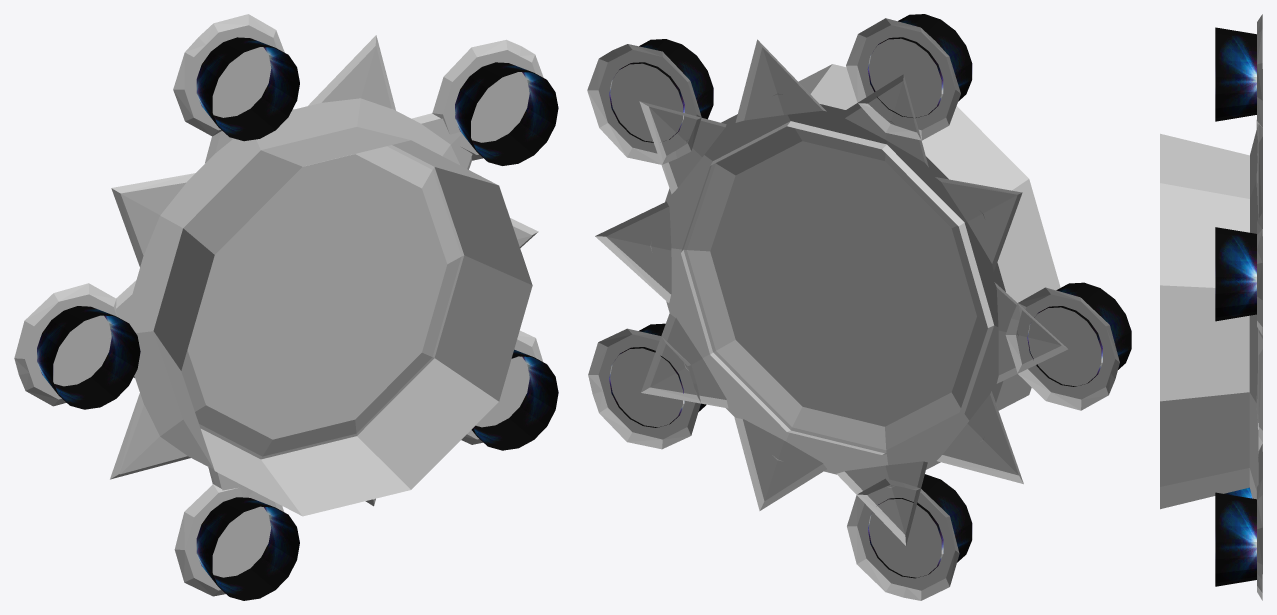
File: aiji_fuben_230_light_01.obj
3 renders of one model, left to right at view 1: azimuth 30°, elevation 25°; view 2: azimuth 150°, elevation 25°; view 3: azimuth 270°, elevation 25°, orthographic. The views are drawn at different scales.
Parts seen in each view (by area): view 1: aiji_fuben_230_light_01, Cylinder02, aiji_fuben_230_light_02, Cylinder07, Cylinder06, Cylinder03, Cylinder05, Cylinder04; view 2: aiji_fuben_230_light_01, Cylinder02, Cylinder07, Cylinder06, Cylinder05, Cylinder03; view 3: Cylinder02, aiji_fuben_230_light_01, Cylinder04, Cylinder05, Cylinder06, aiji_fuben_230_light_02, Cylinder03.
Boxes of the visible parts, box(x1,y1,x2,y2) form: aiji_fuben_230_light_01: box(14, 14, 543, 596); Cylinder02: box(153, 127, 532, 516); aiji_fuben_230_light_02: box(108, 46, 532, 499); Cylinder07: box(37, 306, 140, 409); Cylinder06: box(196, 37, 299, 141); Cylinder03: box(196, 497, 299, 600); Cylinder05: box(455, 62, 558, 165); Cylinder04: box(471, 349, 558, 450); aiji_fuben_230_light_01: box(587, 18, 1119, 600); Cylinder02: box(681, 64, 1060, 454); Cylinder07: box(1027, 282, 1131, 386); Cylinder06: box(867, 14, 972, 117); Cylinder05: box(609, 39, 713, 142); Cylinder03: box(868, 474, 972, 578); Cylinder02: box(1160, 133, 1249, 509); aiji_fuben_230_light_01: box(1249, 14, 1262, 600); Cylinder04: box(1215, 492, 1256, 586); Cylinder05: box(1215, 227, 1256, 321); Cylinder06: box(1215, 27, 1256, 121); aiji_fuben_230_light_02: box(1256, 120, 1257, 498); Cylinder03: box(1224, 487, 1252, 498).
Bounding box in the file's own units: 598 × 617 × 107.
